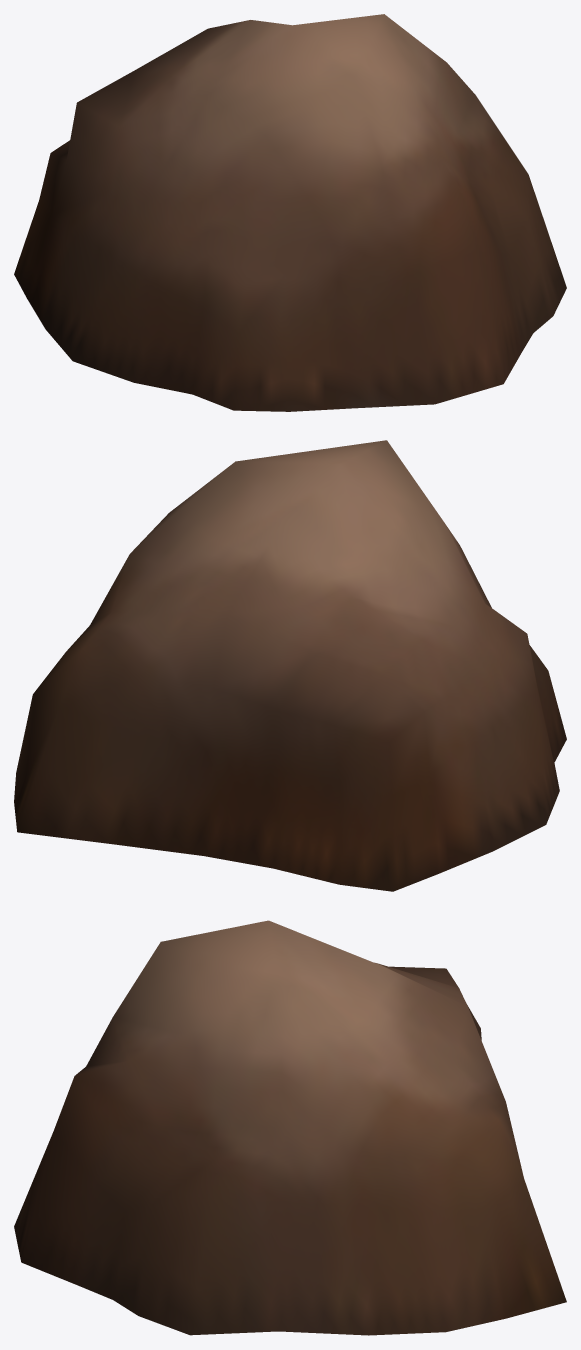
File: RocherD.FBX
3 views of the same model, one above another, from view 1: azimuth 30°, elevation 25°; view 2: azimuth 150°, elevation 25°; view 3: azimuth 270°, elevation 25° (orthographic). The views are drawn at different scales.
Parts seen in each view (by area): view 1: RocherD; view 2: RocherD; view 3: RocherD.
Boxes of the visible parts, box(x1,y1,x2,y2) form: RocherD: box(14, 14, 566, 411); RocherD: box(14, 440, 566, 891); RocherD: box(14, 920, 566, 1335).
Bounding box in the file's own units: 1.3 × 0.8164 × 1.37.
